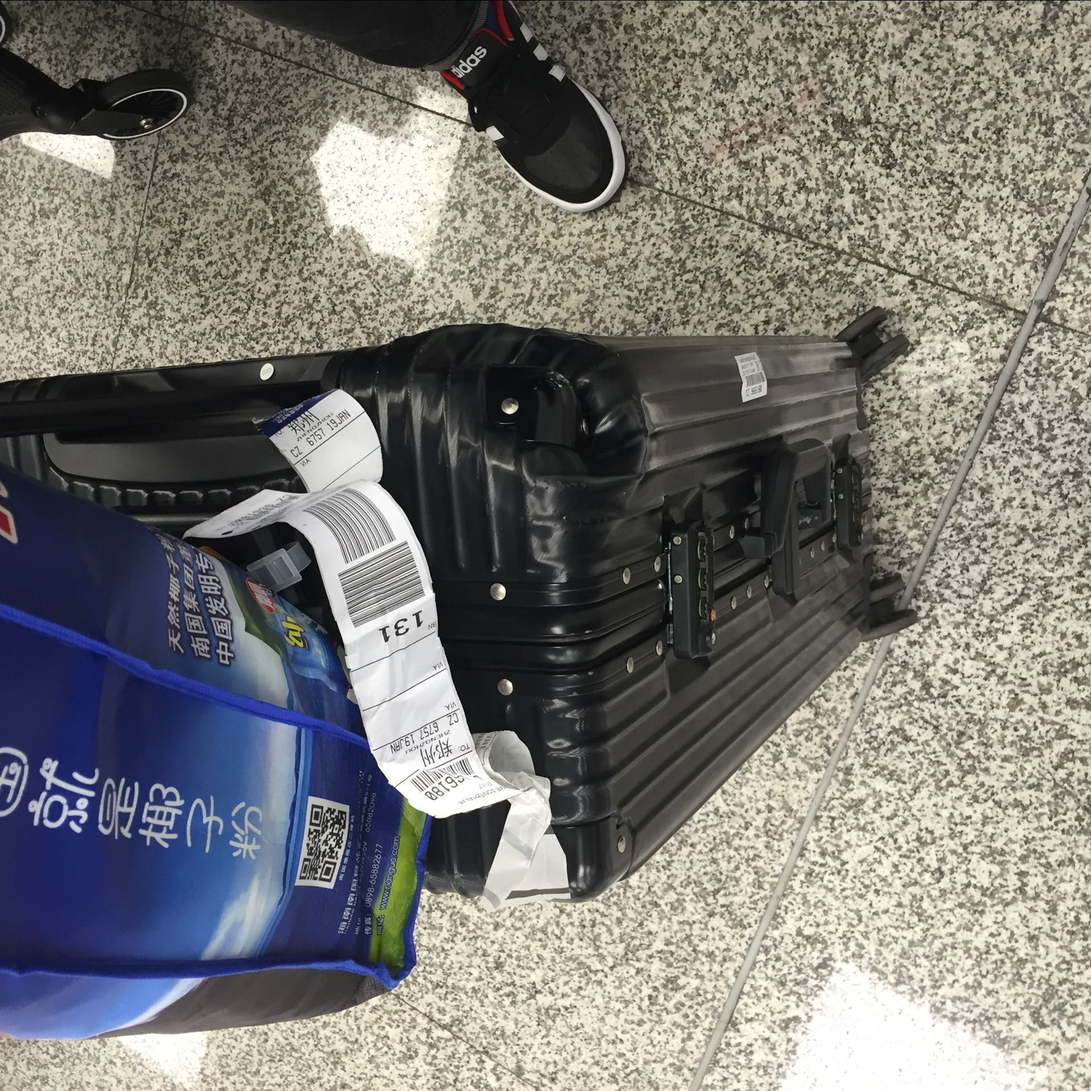rupture: (411, 322, 652, 486)
